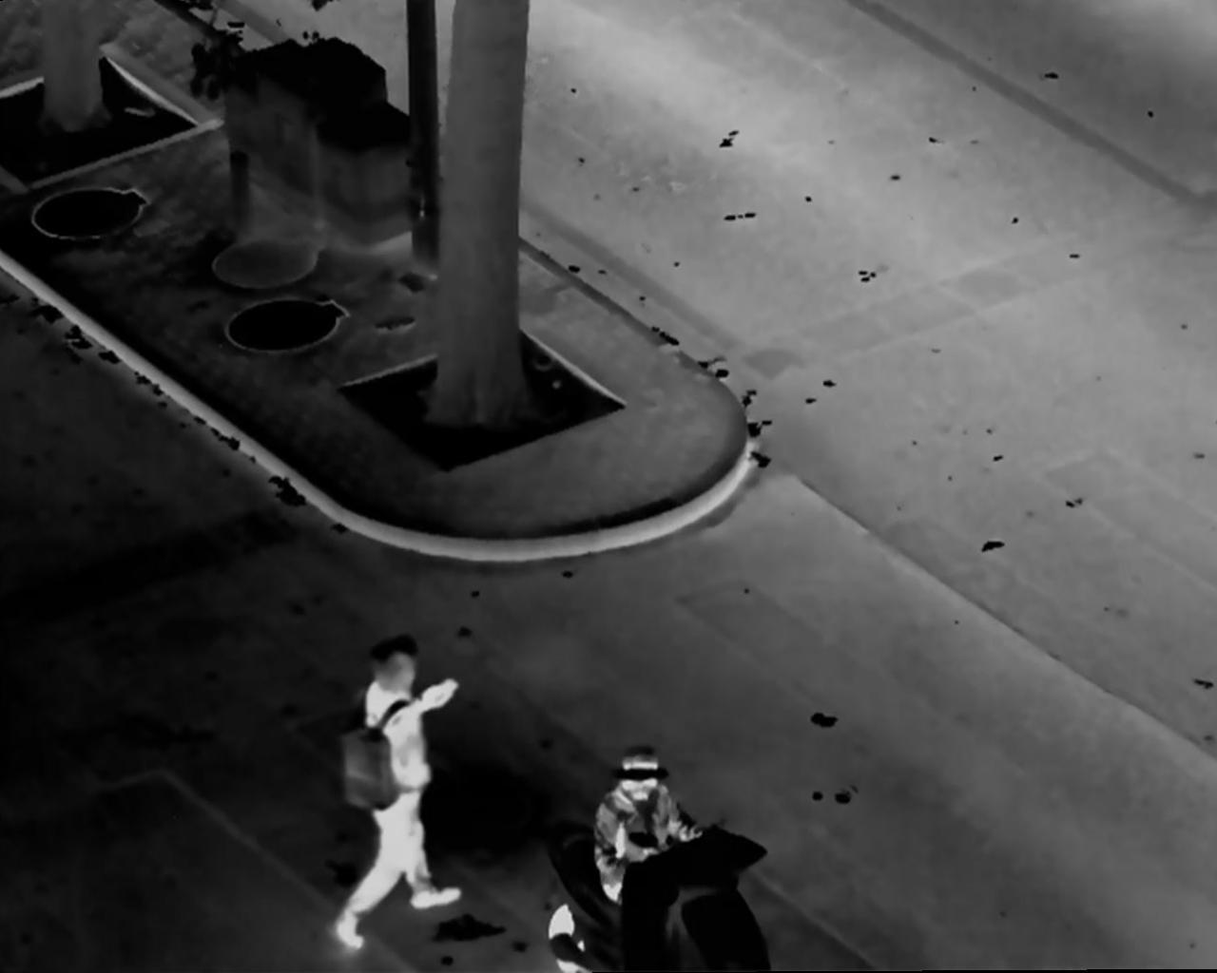person: (330, 624, 462, 961), (578, 737, 696, 973)
